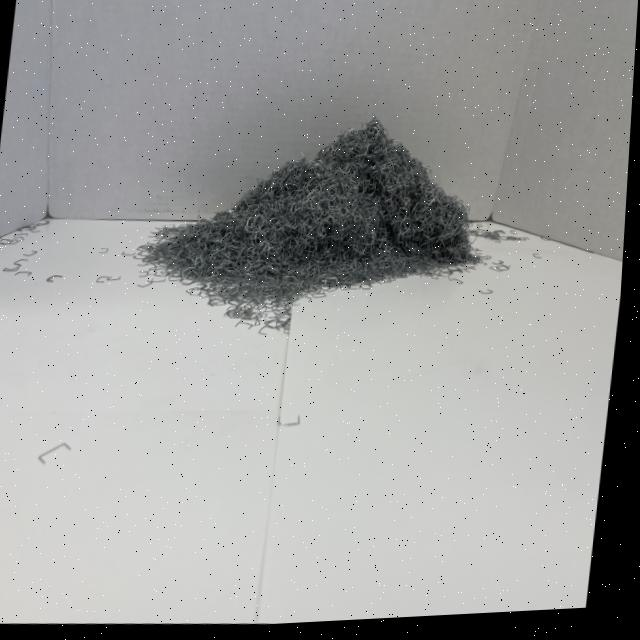staples: (133, 97, 492, 307)
